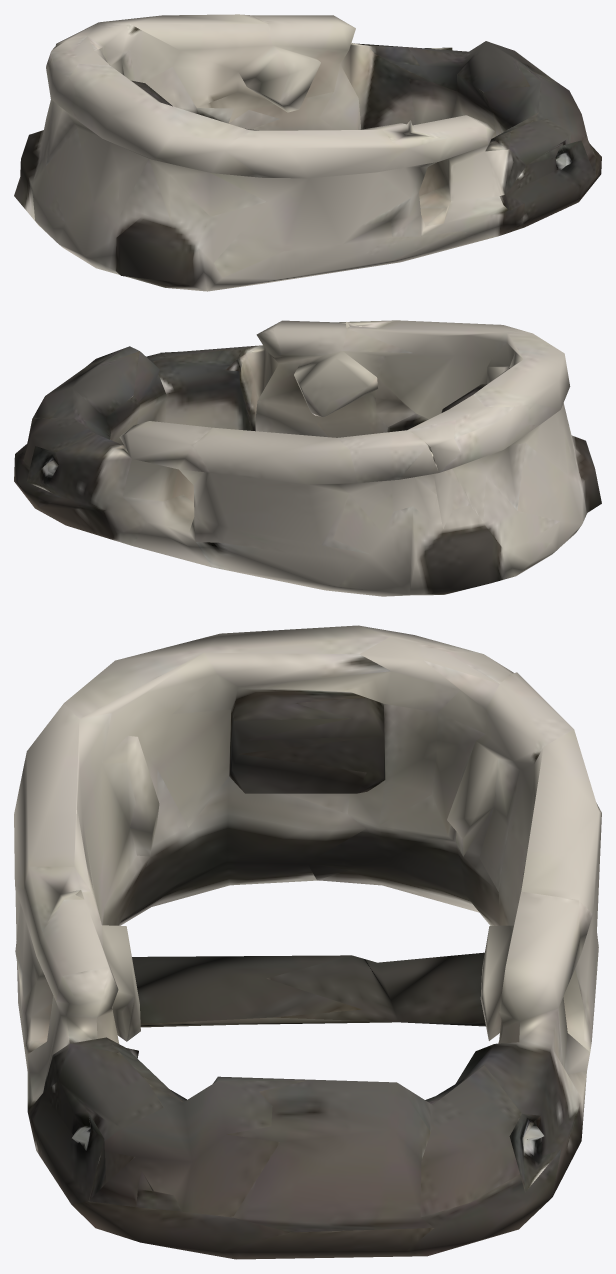
The model's file is collar.glb.
The picture shows the model from 3 angles, top to bottom: view 1: azimuth 30°, elevation 25°; view 2: azimuth 150°, elevation 25°; view 3: azimuth 270°, elevation 25°; orthographic projection. The views are drawn at different scales.
Parts seen in each view (by area): view 1: tripo_node_eebad677-63b4-47fb-a3e5-90e598f0f116; view 2: tripo_node_eebad677-63b4-47fb-a3e5-90e598f0f116; view 3: tripo_node_eebad677-63b4-47fb-a3e5-90e598f0f116.
Part boxes in pixels (bbox=[...]): tripo_node_eebad677-63b4-47fb-a3e5-90e598f0f116: bbox=[14, 14, 601, 291]; tripo_node_eebad677-63b4-47fb-a3e5-90e598f0f116: bbox=[14, 320, 601, 596]; tripo_node_eebad677-63b4-47fb-a3e5-90e598f0f116: bbox=[14, 625, 601, 1259].
Bounding box in the file's own units: 0.742 × 0.25 × 0.4673.
Materials: 1 (1 with a texture image).
